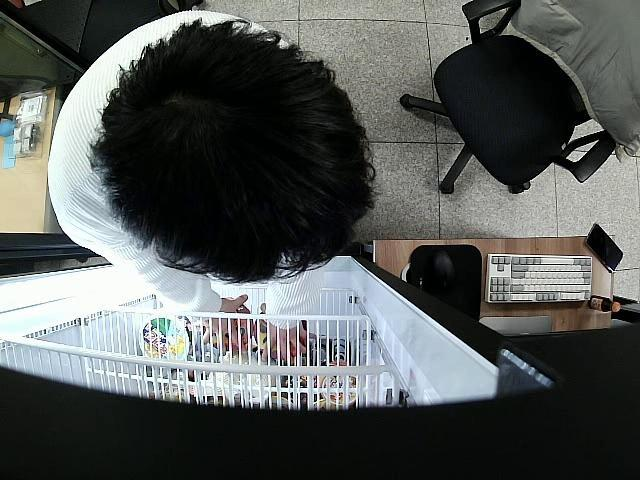05_nuguri_L: (209, 303, 252, 352), (258, 318, 308, 360)
